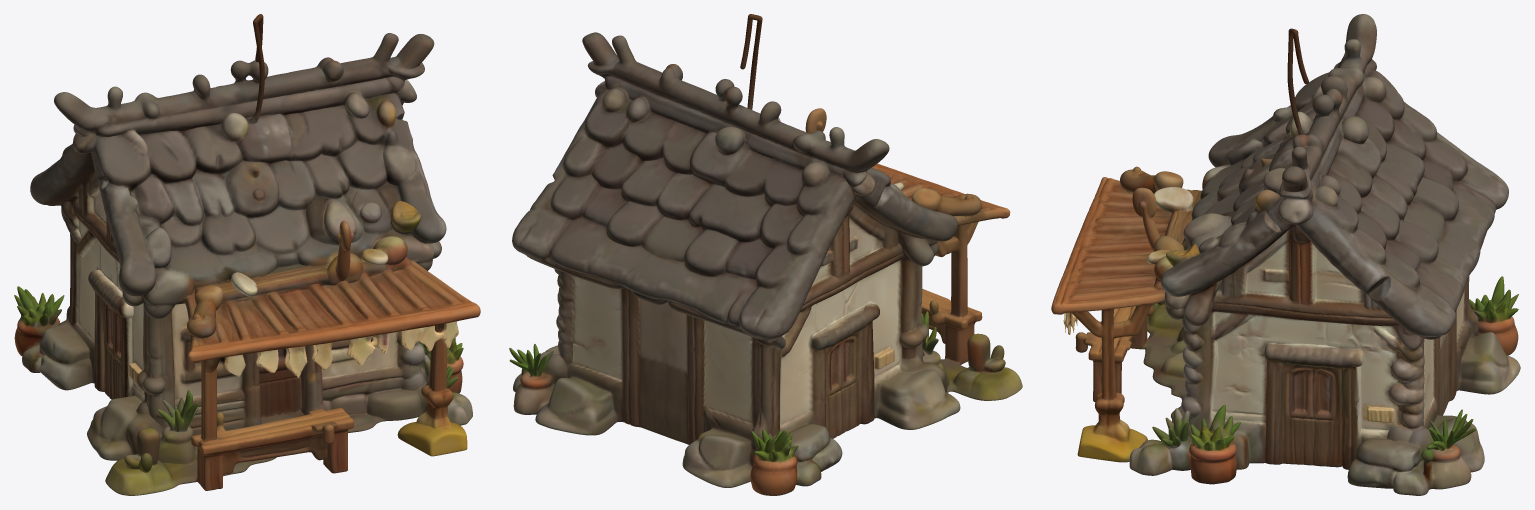
Rendered from village_building_02_lod0.glb.
3 views of the same model, side by side, from view 1: azimuth 30°, elevation 25°; view 2: azimuth 150°, elevation 25°; view 3: azimuth 270°, elevation 25° (orthographic).
Visible parts, largest first — view 1: tripo_node_8a496feb-6d8c-4070-937e-358509ef6d97.1271; view 2: tripo_node_8a496feb-6d8c-4070-937e-358509ef6d97.1271; view 3: tripo_node_8a496feb-6d8c-4070-937e-358509ef6d97.1271.
Boxes of the visible parts, x1,y1,x2,y2 form: tripo_node_8a496feb-6d8c-4070-937e-358509ef6d97.1271: [14, 14, 480, 495]; tripo_node_8a496feb-6d8c-4070-937e-358509ef6d97.1271: [509, 14, 1022, 495]; tripo_node_8a496feb-6d8c-4070-937e-358509ef6d97.1271: [1051, 14, 1520, 495].
Size of the model in its own units: 0.3126 by 0.2924 by 0.327.
1 material, 1 textured.
